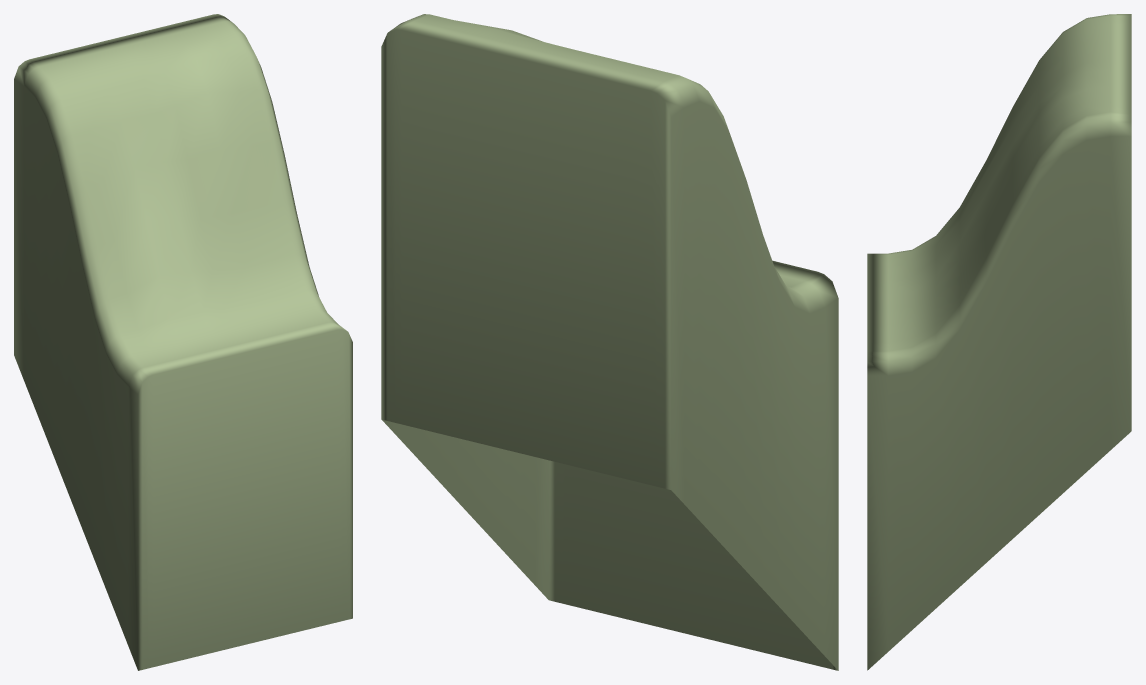
File: ground-ramp-lr-21.glb
3 renders of one model, left to right at view 1: azimuth 30°, elevation 25°; view 2: azimuth 150°, elevation 25°; view 3: azimuth 270°, elevation 25°, orthographic. The views are drawn at different scales.
Visible parts, largest first — view 1: ground-ramp-lr-21; view 2: ground-ramp-lr-21; view 3: ground-ramp-lr-21.
Boxes of the visible parts, bbox=[...] form: ground-ramp-lr-21: bbox=[14, 14, 352, 670]; ground-ramp-lr-21: bbox=[381, 14, 838, 670]; ground-ramp-lr-21: bbox=[867, 14, 1131, 670].
Bounding box in the file's own units: 1 × 2.3 × 1.
